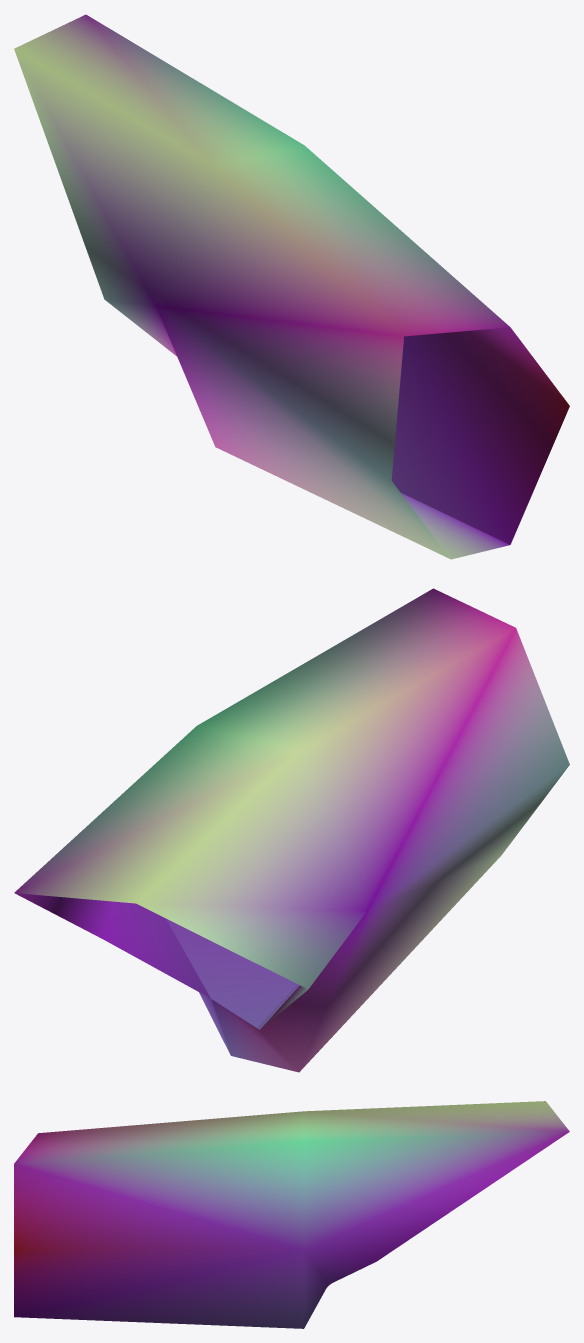
3 renders of one model, top to bottom at view 1: azimuth 30°, elevation 25°; view 2: azimuth 150°, elevation 25°; view 3: azimuth 270°, elevation 25°, orthographic. The views are drawn at different scales.
Parts seen in each view (by area): view 1: part; view 2: part; view 3: part.
Part boxes in pixels (box(x1,y1,x2,y2)): part: box(14, 14, 569, 559); part: box(14, 588, 569, 1072); part: box(14, 1101, 569, 1328).
Bounding box in the file's own units: 7 × 9 × 23.
